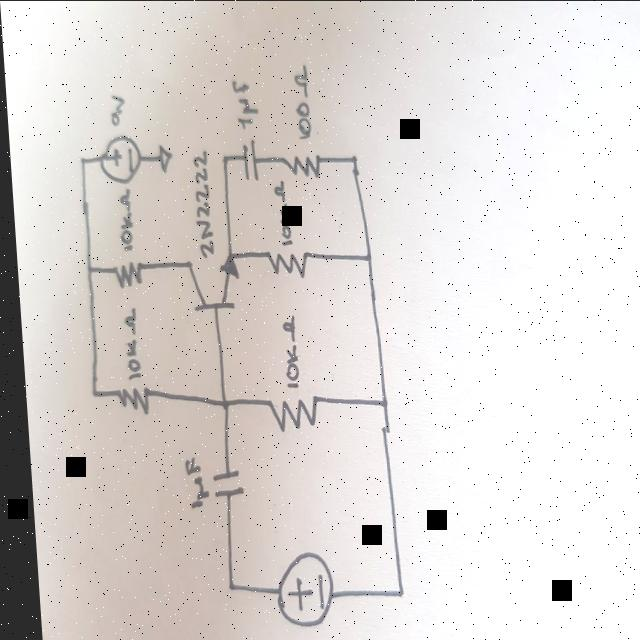capacitor: (204, 468, 237, 503), (239, 136, 258, 186)
ground: (155, 144, 172, 176)
junction: (385, 586, 400, 604), (214, 396, 227, 412), (372, 397, 385, 411), (359, 250, 370, 264), (84, 386, 94, 400), (347, 154, 358, 166), (217, 580, 228, 592), (75, 156, 84, 168), (81, 265, 90, 275), (219, 154, 226, 164)
resistor: (261, 394, 314, 434), (260, 248, 308, 280), (279, 148, 320, 180), (108, 385, 146, 417), (110, 260, 139, 290)
source: (263, 550, 328, 630), (95, 134, 140, 187)
text: (188, 148, 211, 258), (289, 60, 314, 142), (273, 310, 298, 392), (115, 307, 137, 383), (176, 452, 203, 512), (230, 76, 259, 130), (268, 178, 289, 248), (113, 186, 134, 253), (106, 90, 128, 128)
transistor: (180, 252, 239, 316)
